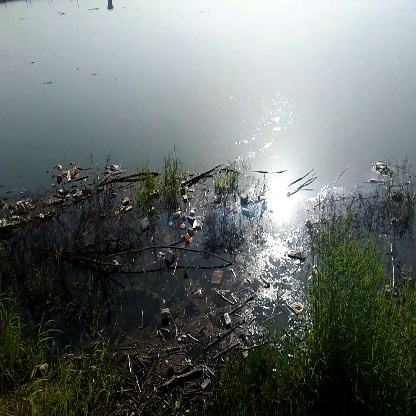branch: (107, 238, 237, 274)
